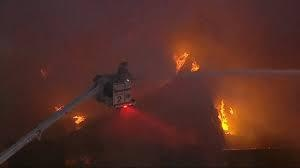fire: (213, 94, 240, 136), (172, 47, 202, 73), (70, 111, 86, 124)
